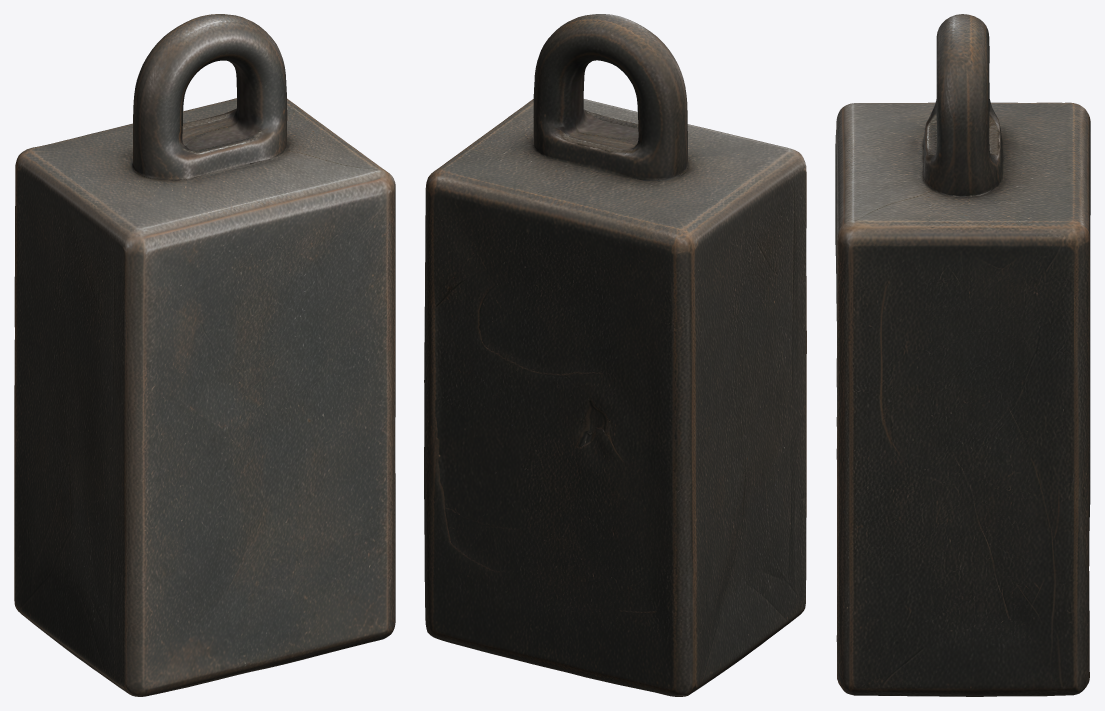
The model's file is Prop_PulleyCounterweight.fbx.
3 views of the same model, side by side, from view 1: azimuth 30°, elevation 25°; view 2: azimuth 150°, elevation 25°; view 3: azimuth 270°, elevation 25° (orthographic).
Parts seen in each view (by area): view 1: texture_mapping; view 2: texture_mapping; view 3: texture_mapping.
Part boxes in pixels (x1,y1,x2,y2): texture_mapping: [14, 14, 395, 696]; texture_mapping: [424, 14, 806, 696]; texture_mapping: [835, 14, 1090, 696].
Bounding box in the file's own units: 0.4645 × 0.3749 × 1.
1 material, 1 textured.
